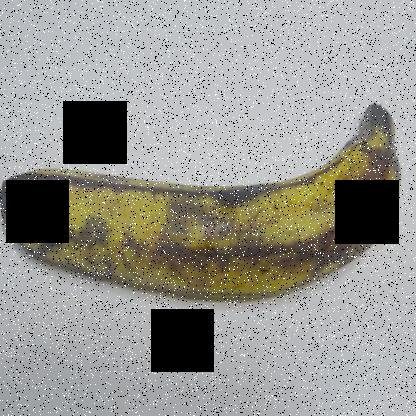overripe: (1, 82, 407, 312)
